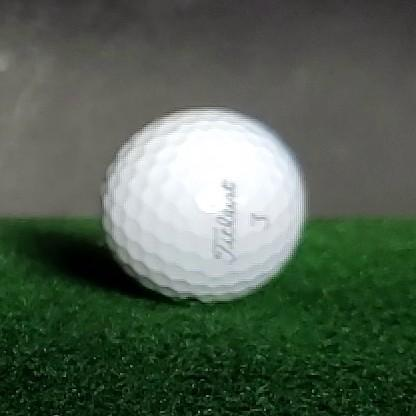golfball: (100, 108, 306, 302)
